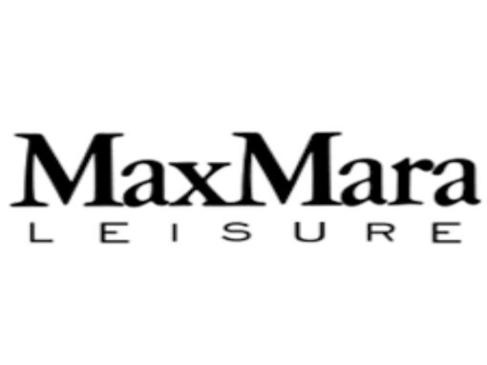MAX-MARA: (9, 127, 481, 206)
